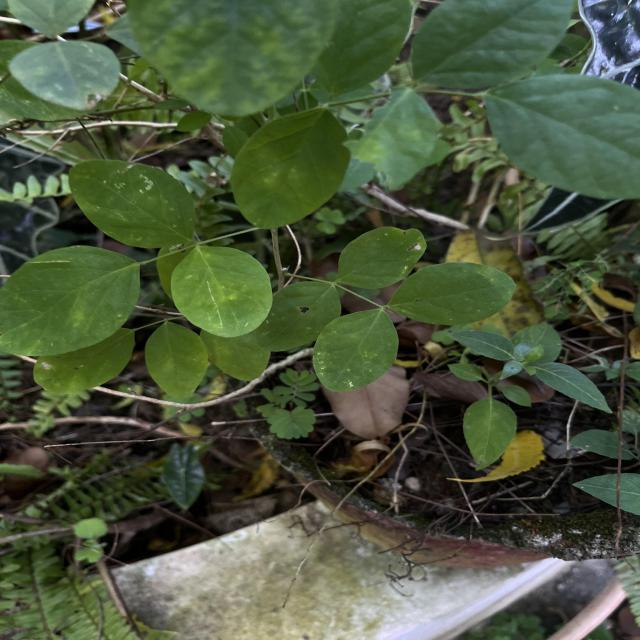Clitoria ternatea: (0, 244, 142, 358), (68, 158, 197, 249), (169, 245, 274, 338), (386, 261, 518, 327), (312, 308, 401, 392), (334, 226, 428, 290)
